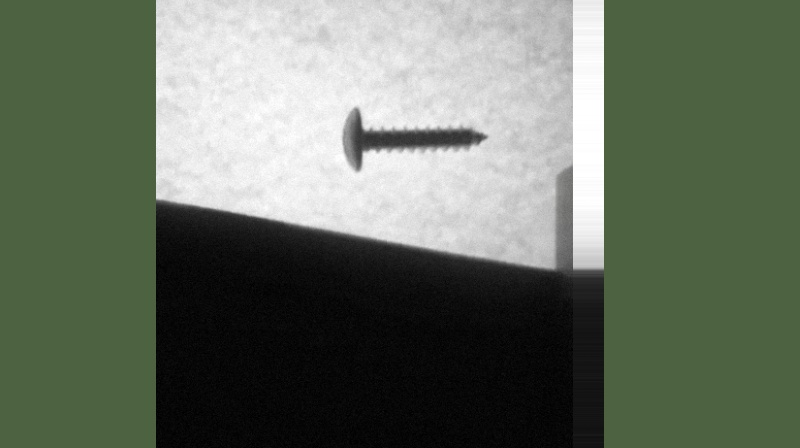S003: (336, 104, 488, 177)
